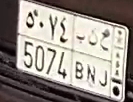0: (35, 20, 46, 73)
4: (58, 17, 69, 80)
5: (22, 11, 35, 70)
7: (46, 13, 59, 75)
B: (74, 32, 87, 80)
J: (99, 31, 112, 88)
N: (87, 30, 99, 84)
